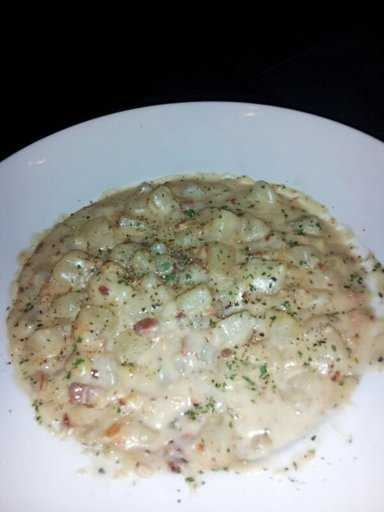soup: (6, 175, 376, 474)
